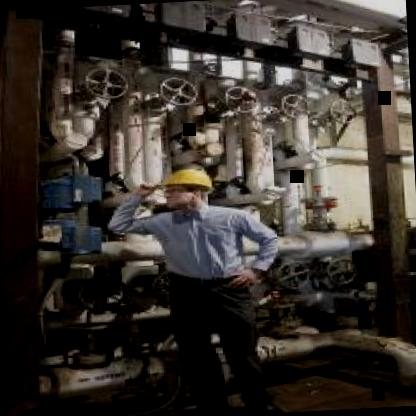helmet: (155, 161, 217, 212)
